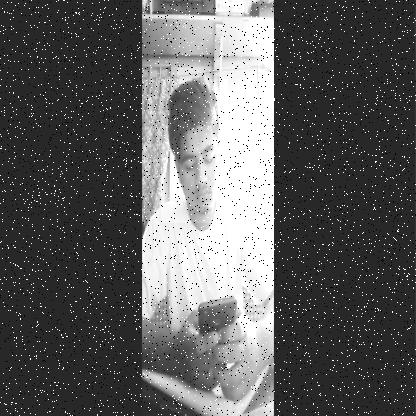Normal: (161, 79, 228, 223)
